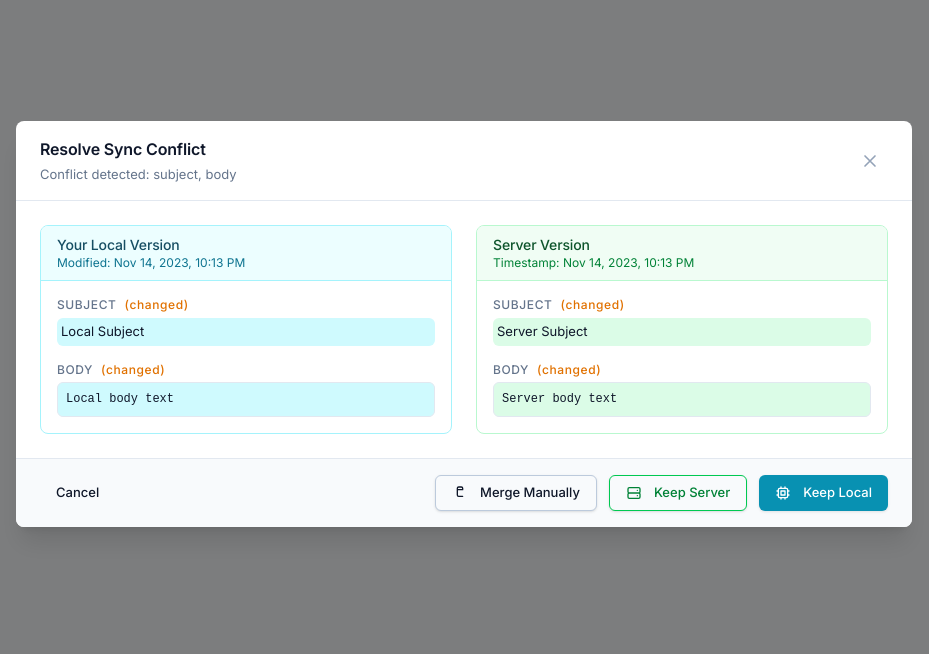
Test: ConflictResolutionModal › Merge editor › should return to comparison view when Back is clicked
# Go to merge editor
Click the button "Merge Manually" at (516, 493), box [435,475,597,511]
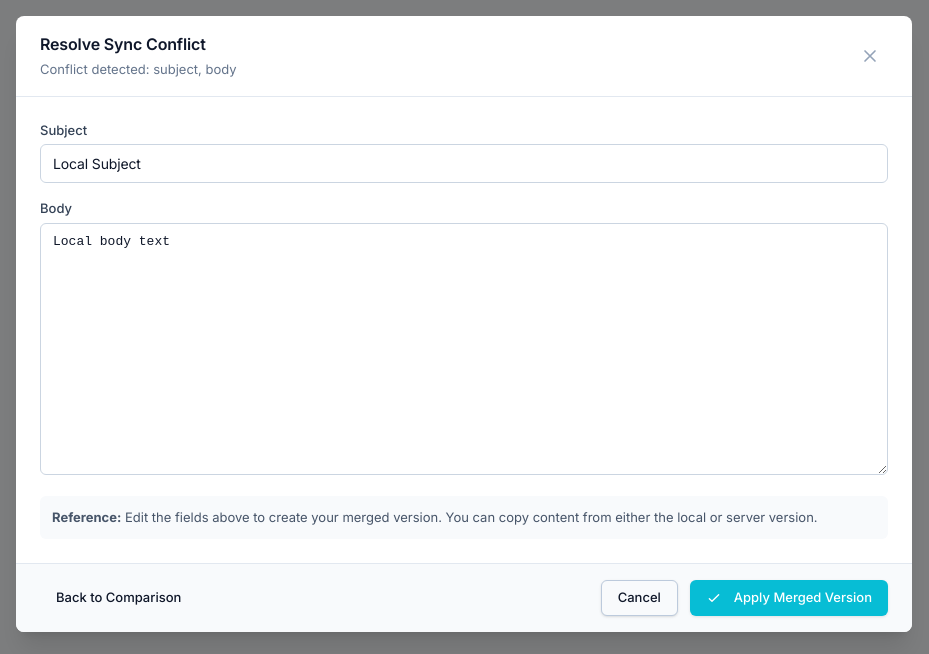
#  Go back
Click the button "Back to Comparison" at (119, 598), box [40,580,197,616]
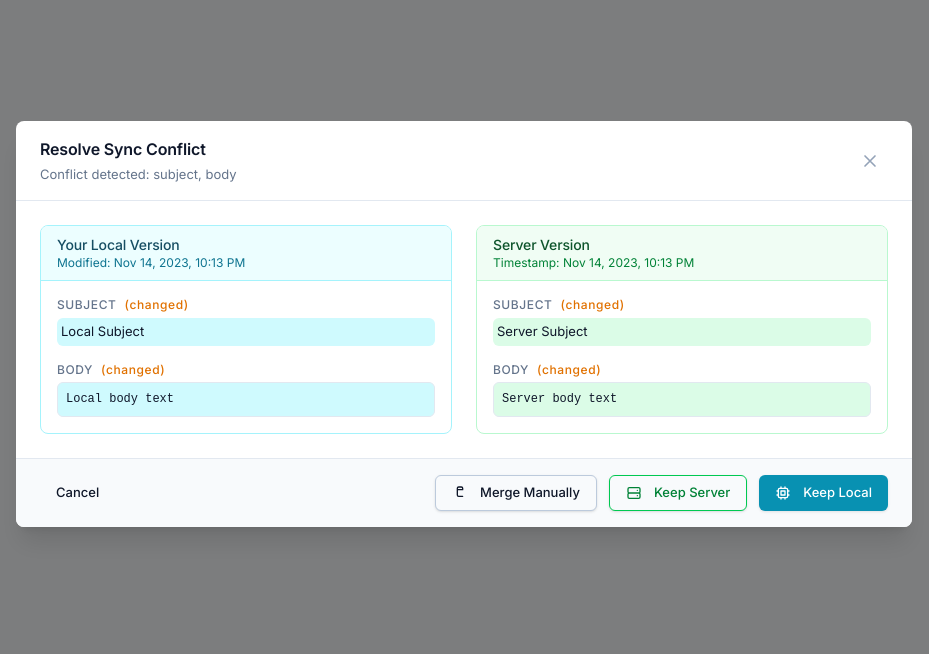
Expected: the heading "Server Version" is shown, [493,236,590,253]
Result: the heading "Your Local Version" is shown at [57,236,180,253]
